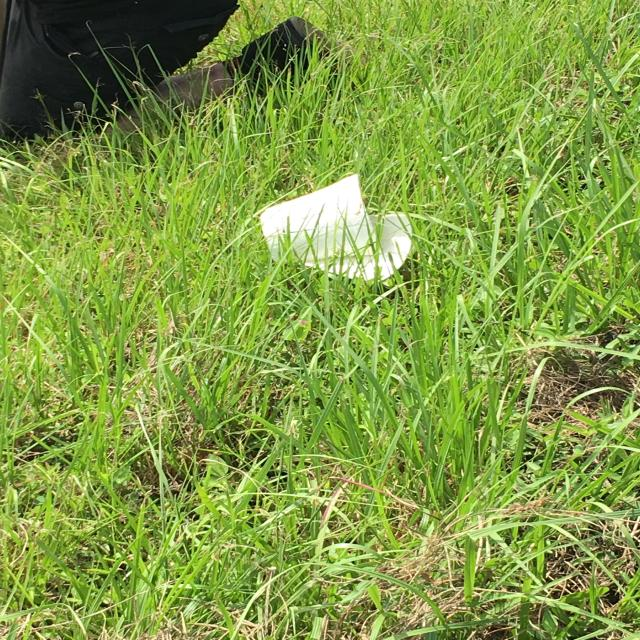litter: (231, 169, 381, 286)
